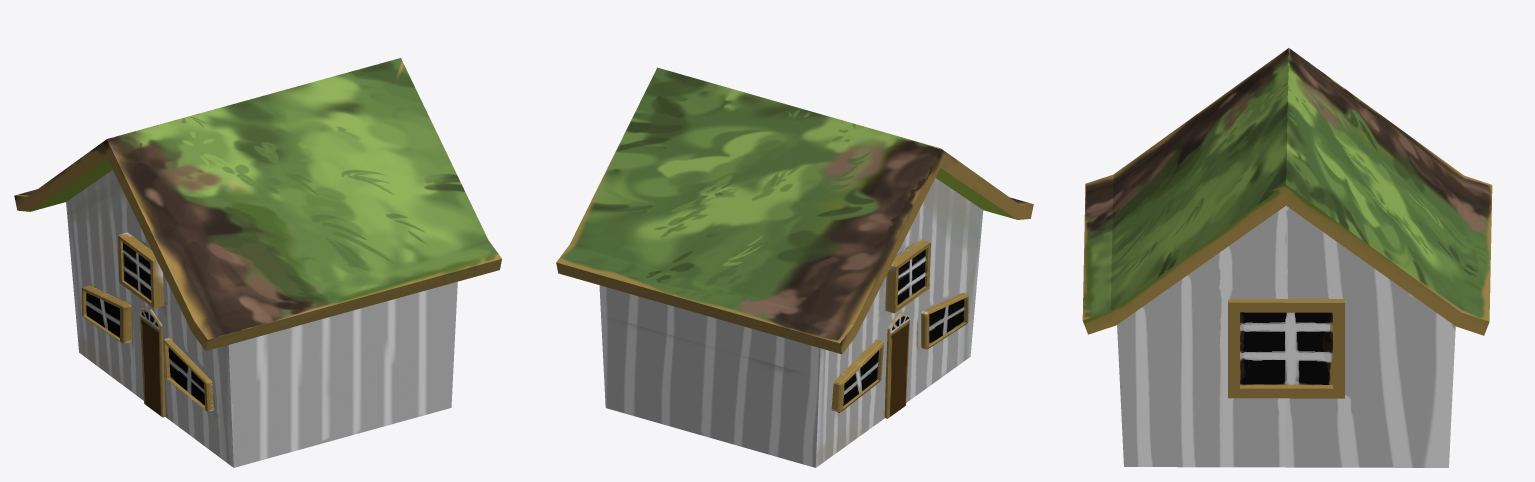
Rendered from SM_Big_House.fbx.
3 views of the same model, side by side, from view 1: azimuth 30°, elevation 25°; view 2: azimuth 150°, elevation 25°; view 3: azimuth 270°, elevation 25° (orthographic). The views are drawn at different scales.
Visible parts, largest first — view 1: roof, house; view 2: roof, house; view 3: house, roof.
Part boxes in pixels (x1,y1,x2,y2): roof: [14, 58, 501, 350]; house: [66, 170, 457, 467]; roof: [556, 67, 1033, 354]; house: [599, 178, 983, 467]; house: [1117, 206, 1455, 467]; roof: [1082, 48, 1492, 335].
Size of the model in its own units: 773 by 795 by 908.
4 materials, 4 textured.
